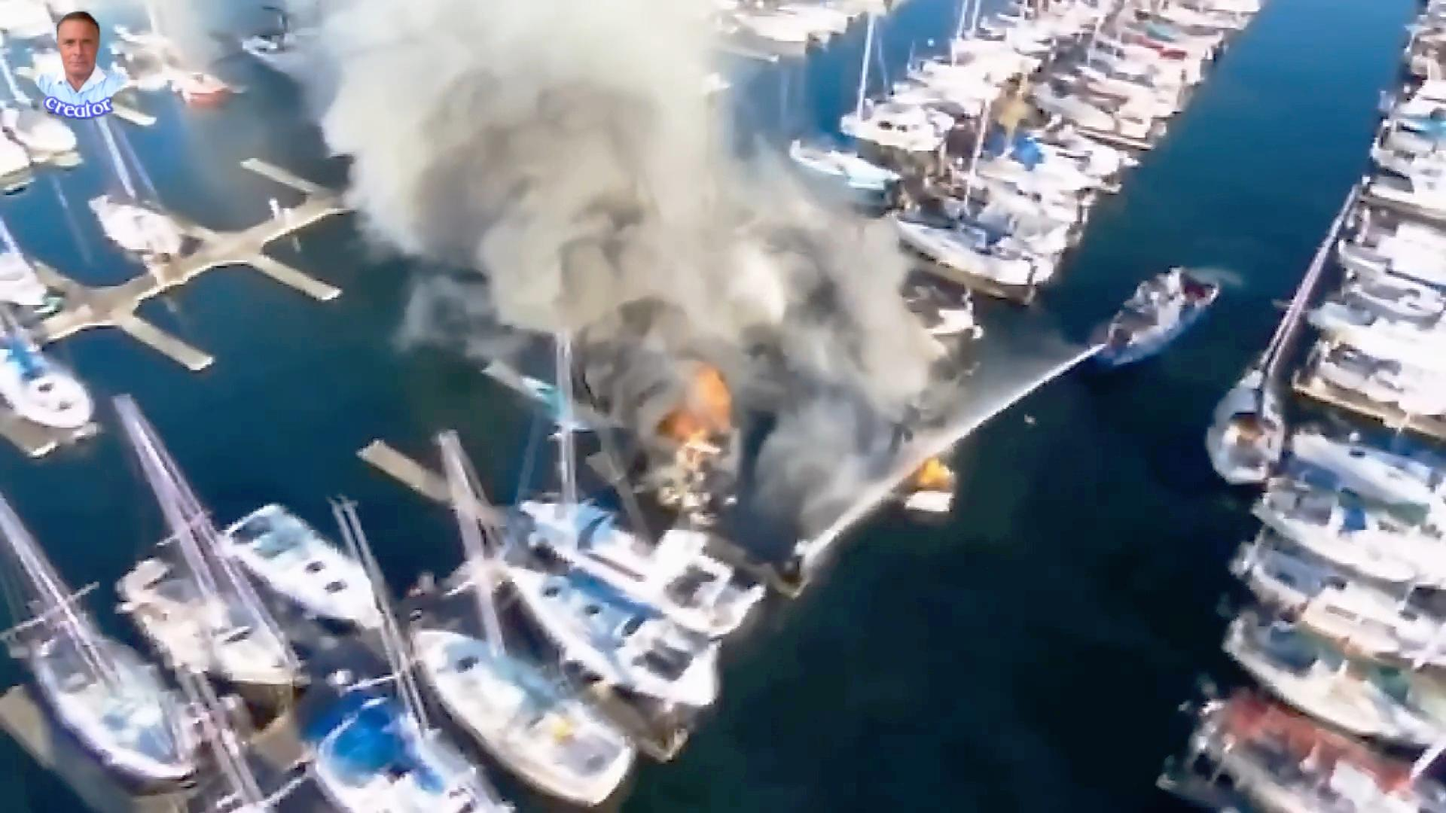smoke: (351, 2, 709, 277), (510, 138, 750, 356), (712, 235, 912, 424)
